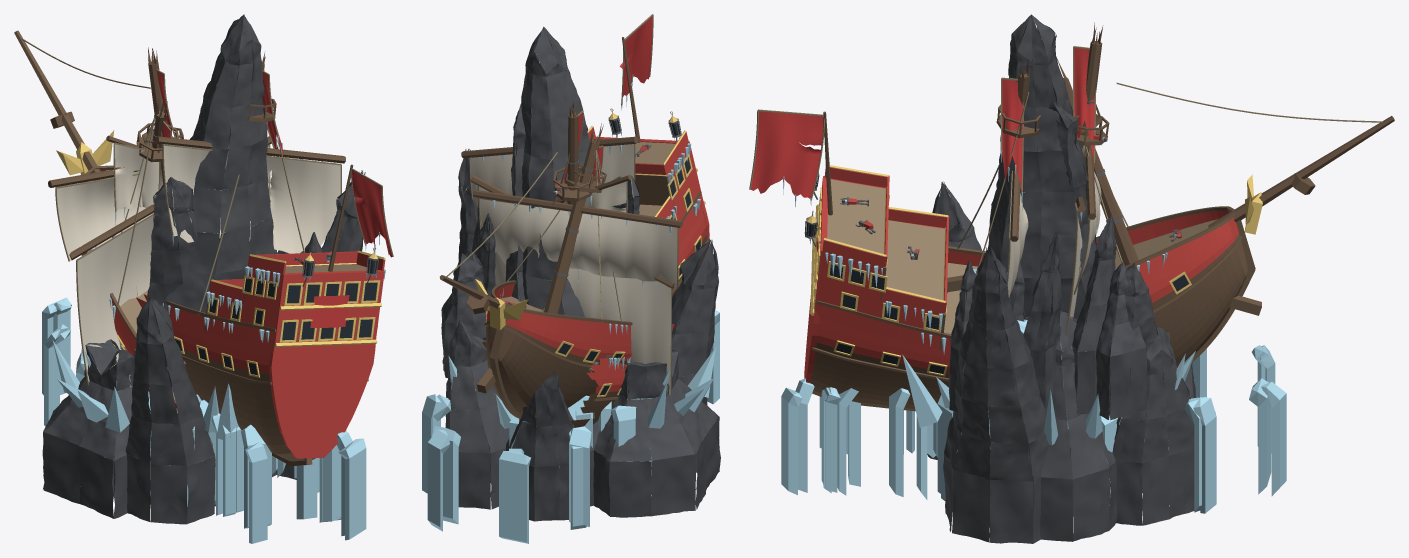
The model's file is maelstrom_kit.glb.
The picture shows the model from 3 angles, left to right: view 1: azimuth 30°, elevation 25°; view 2: azimuth 150°, elevation 25°; view 3: azimuth 270°, elevation 25°; orthographic projection. The views are drawn at different scales.
Parts seen in each view (by area): view 1: wreck_stern, rock_spire_a, wreck_mast, rock_crag, wreck_bow, wreck_keel, rock_spire_b, wreck_deck; view 2: wreck_bow, rock_spire_a, rock_crag, wreck_stern, rock_spire_b, wreck_mast, wreck_keel, wreck_deck; view 3: wreck_stern, rock_spire_a, rock_crag, wreck_bow, rock_spire_b, wreck_keel, wreck_deck, wreck_mast.
Part boxes in pixels (box(x1,y1,x2,y2)): wreck_stern: box(136, 50, 393, 540); rock_spire_a: box(52, 14, 366, 524); wreck_mast: box(69, 47, 271, 385); rock_crag: box(42, 232, 322, 518); wreck_bow: box(14, 30, 185, 397); wreck_keel: box(42, 297, 346, 543); rock_spire_b: box(81, 89, 241, 506); wreck_deck: box(44, 324, 177, 495); wreck_bow: box(439, 123, 682, 467); rock_spire_a: box(448, 26, 718, 521); rock_crag: box(441, 202, 720, 517); wreck_stern: box(461, 14, 710, 297); rock_spire_b: box(445, 103, 670, 509); wreck_mast: box(471, 99, 674, 396); wreck_keel: box(427, 308, 719, 543); wreck_deck: box(422, 333, 652, 529); wreck_stern: box(749, 58, 1041, 500); rock_spire_a: box(902, 14, 1195, 543); rock_crag: box(948, 213, 1159, 541); wreck_bow: box(1028, 59, 1394, 441); rock_spire_b: box(991, 100, 1195, 525); wreck_keel: box(819, 275, 1286, 496); wreck_deck: box(961, 348, 1216, 513); wreck_mast: box(1065, 22, 1109, 335).
Bounding box in the file's own units: 25.75 × 38.59 × 46.6.
